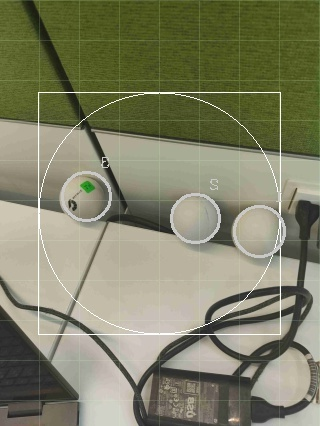Pelota blanca: (141, 331, 276, 425), (250, 342, 320, 419), (58, 169, 116, 224), (231, 204, 286, 259), (170, 190, 222, 246)
